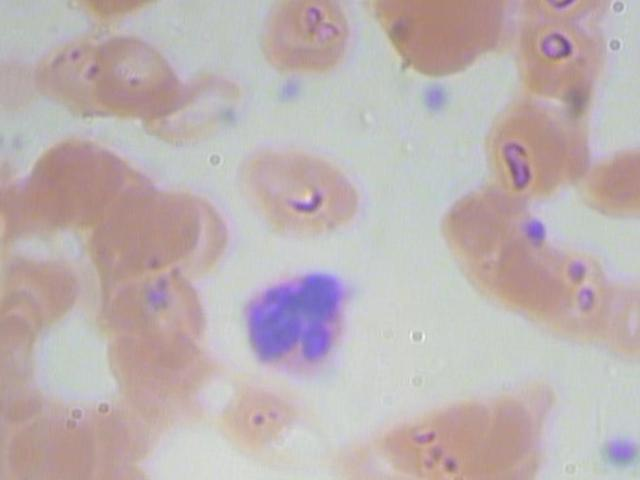Platelets: (18, 128, 127, 238), (392, 7, 502, 87)
RBC: (230, 135, 366, 246), (141, 62, 259, 155), (251, 0, 369, 87), (102, 184, 202, 276), (212, 368, 312, 460), (90, 32, 190, 123), (441, 386, 541, 477), (387, 390, 487, 480), (508, 17, 611, 103), (515, 0, 618, 24), (399, 0, 509, 14), (258, 0, 376, 2)
WBC: (474, 94, 584, 211)
